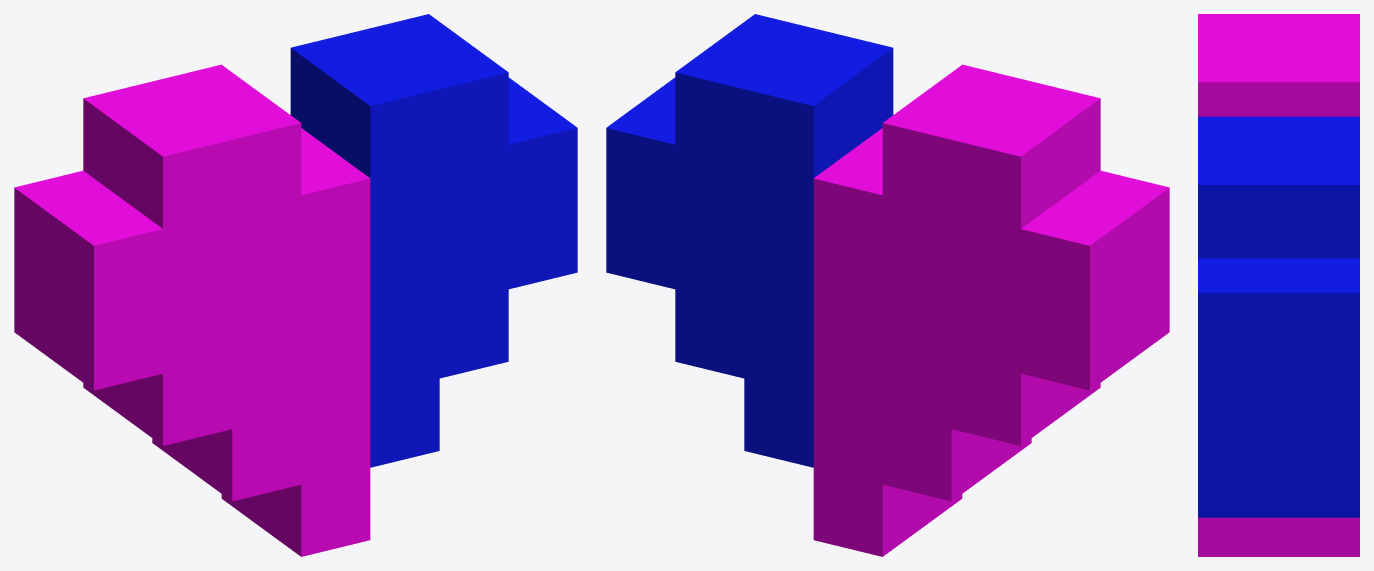
Rendered from Heart.vox-1.obj.
The picture shows the model from 3 angles, left to right: view 1: azimuth 30°, elevation 25°; view 2: azimuth 150°, elevation 25°; view 3: azimuth 270°, elevation 25°; orthographic projection.
Bounding box in the file's own units: 0.7 × 0.6 × 0.2.
Materials: 1 (1 with a texture image).
